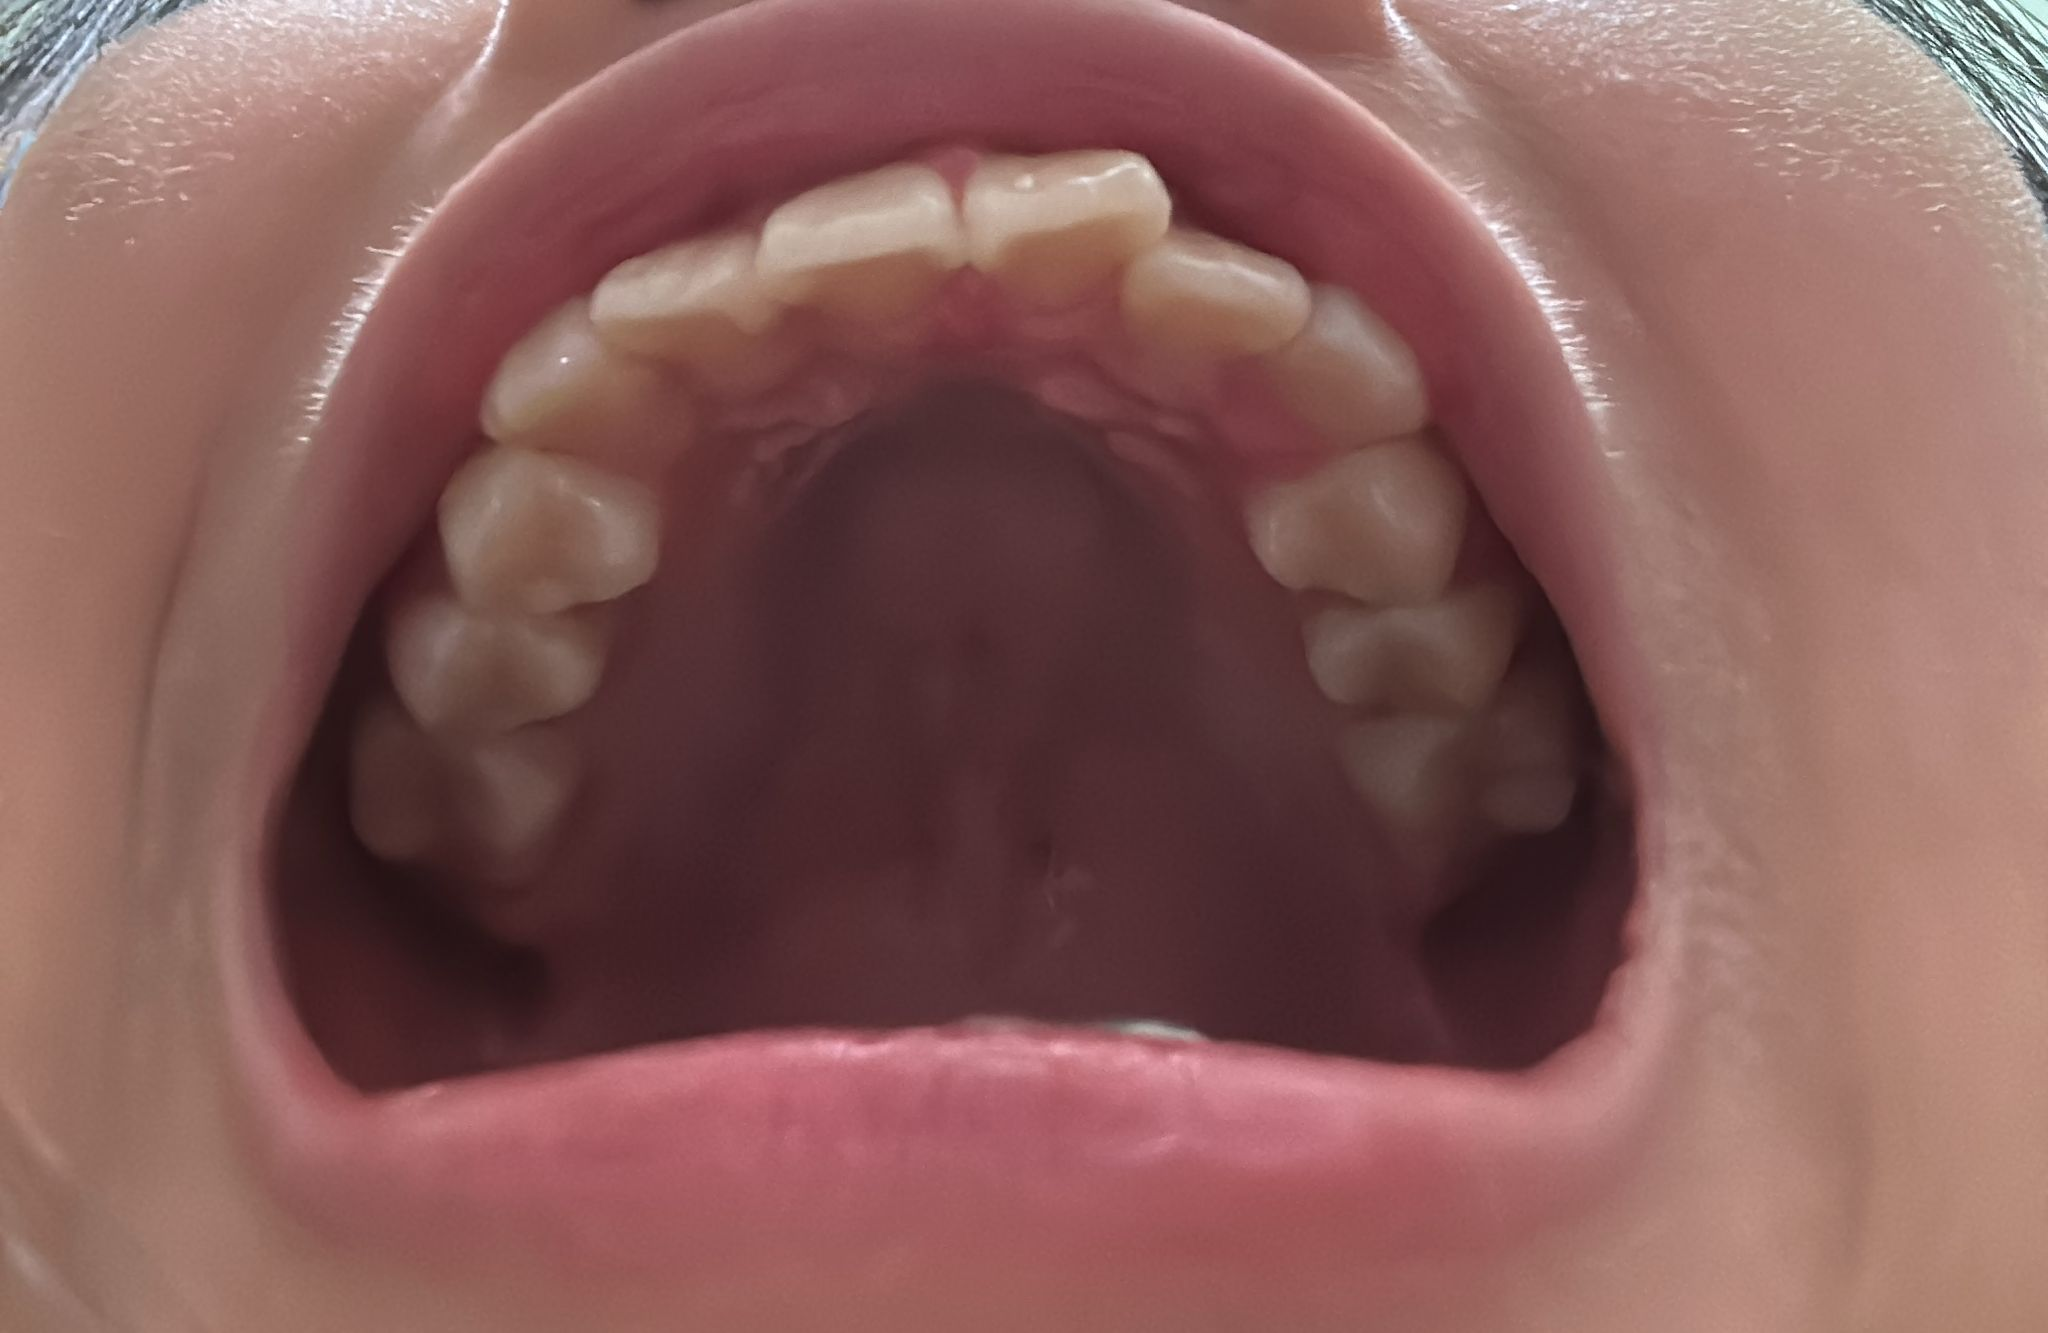teeth: (351, 696, 593, 894), (1345, 676, 1597, 863), (431, 437, 655, 612), (484, 294, 687, 475), (1251, 445, 1464, 605), (972, 142, 1166, 309), (387, 587, 603, 730), (758, 160, 949, 321), (602, 233, 793, 390), (1128, 225, 1312, 363), (1306, 584, 1511, 705), (1260, 296, 1424, 443)
